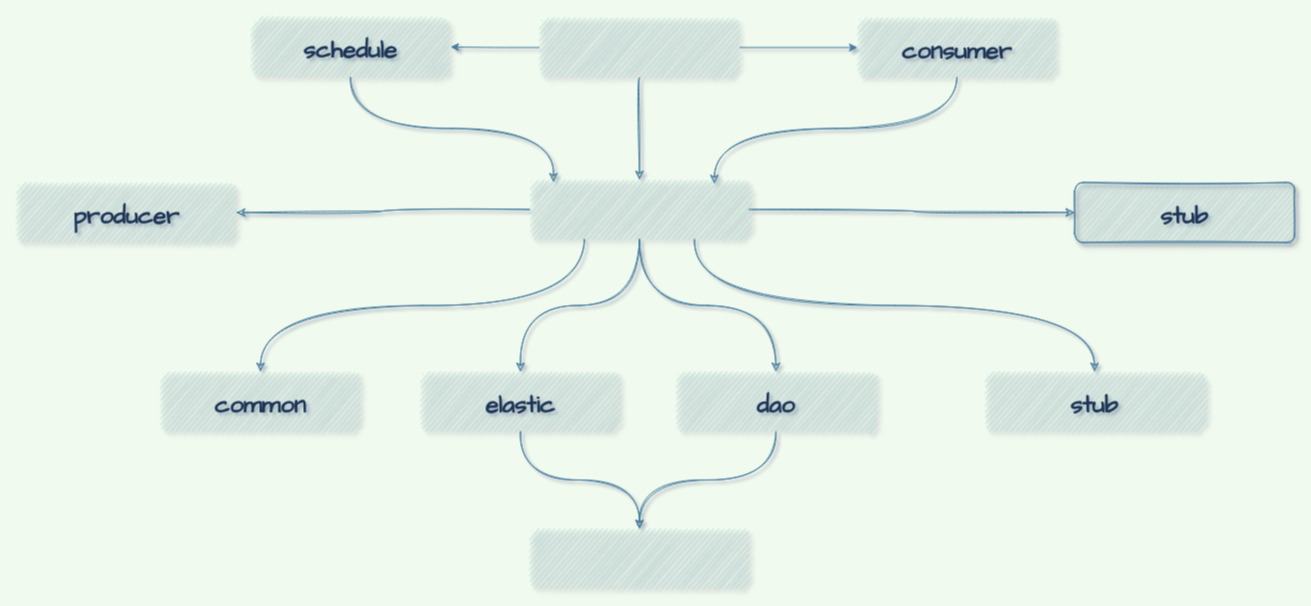
Some shapes in this 1311 by 606 pixel diagram are drawn without their labels. The shapes that lost their labels are listed below. From the top down, each one's centre as x and y in pixels, then its label:
At (x=640, y=48): "facade".
At (x=640, y=210): "service".
At (x=640, y=559): "entity".
